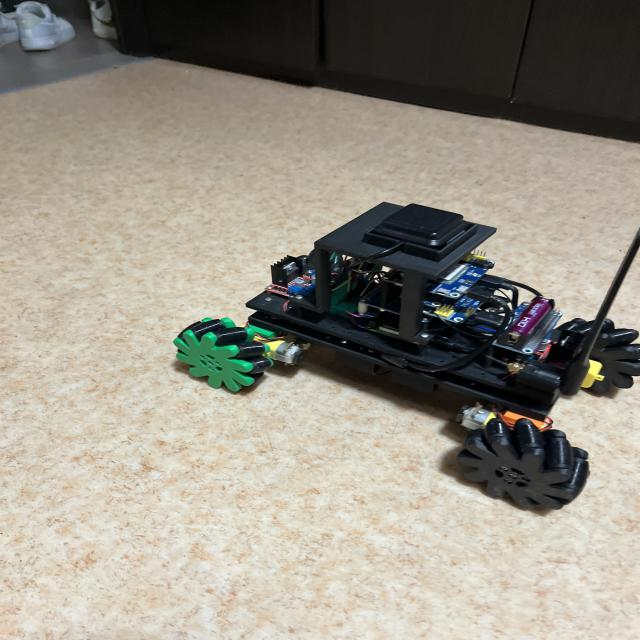robot: (174, 203, 640, 509)
